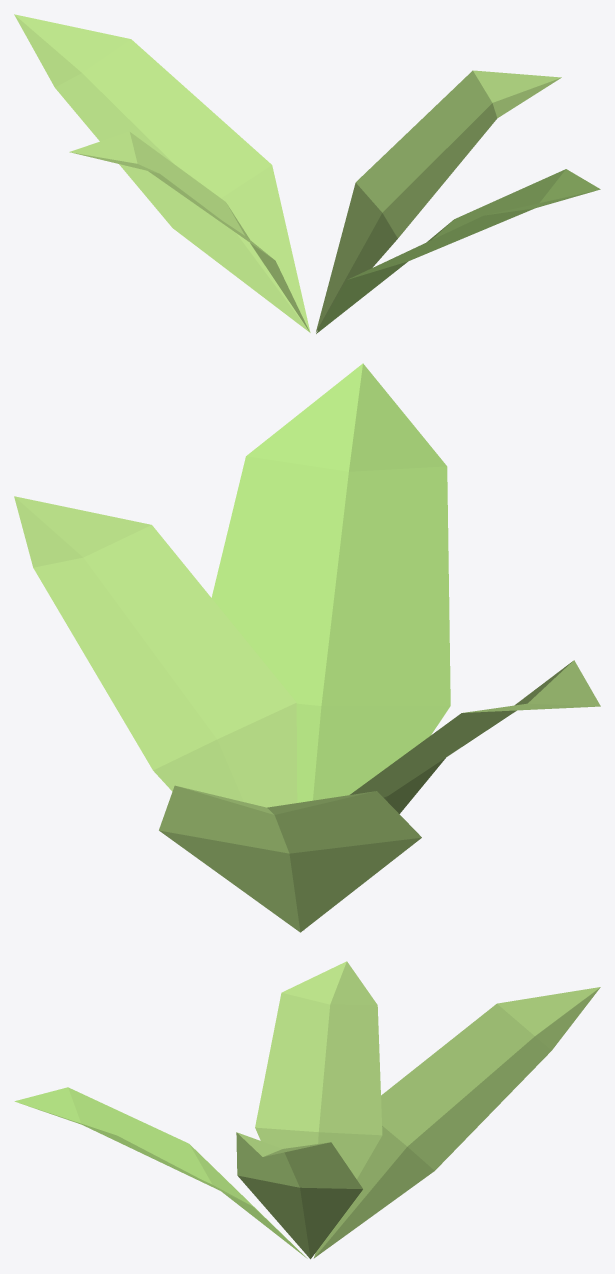
File: Plant_k_OneS_03.fbx
The picture shows the model from 3 angles, top to bottom: view 1: azimuth 30°, elevation 25°; view 2: azimuth 150°, elevation 25°; view 3: azimuth 270°, elevation 25°; orthographic projection. The views are drawn at different scales.
Parts seen in each view (by area): view 1: Plant_k_OneS_03; view 2: Plant_k_OneS_03; view 3: Plant_k_OneS_03.
Boxes of the visible parts, x1,y1,x2,y2 form: Plant_k_OneS_03: (14,14,600,333); Plant_k_OneS_03: (14,363,600,932); Plant_k_OneS_03: (14,961,600,1259).
Size of the model in its own units: 0.2899 by 0.1461 by 0.367.
